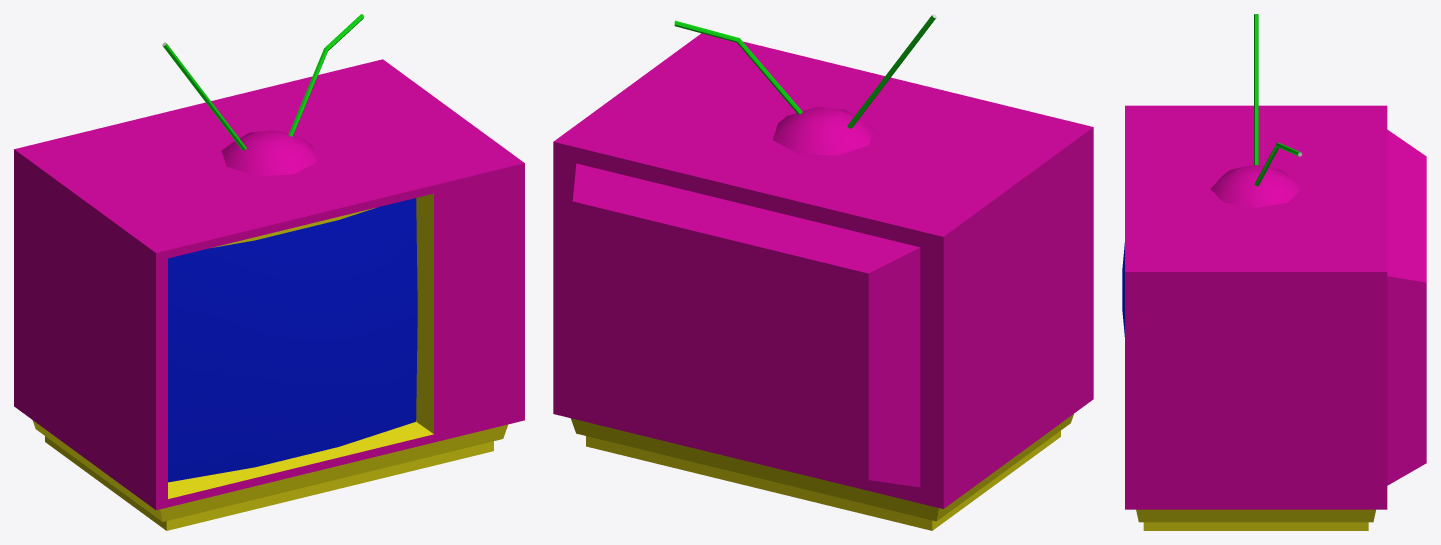
The model's file is television.fbx.
3 views of the same model, side by side, from view 1: azimuth 30°, elevation 25°; view 2: azimuth 150°, elevation 25°; view 3: azimuth 270°, elevation 25° (orthographic). The views are drawn at different scales.
Parts seen in each view (by area): view 1: Cube.002; view 2: Cube.002; view 3: Cube.002.
Boxes of the visible parts, x1,y1,x2,y2 form: Cube.002: [14, 14, 524, 530]; Cube.002: [553, 14, 1093, 530]; Cube.002: [1122, 14, 1426, 530].
Size of the model in its own units: 60 by 66.69 by 46.42.
